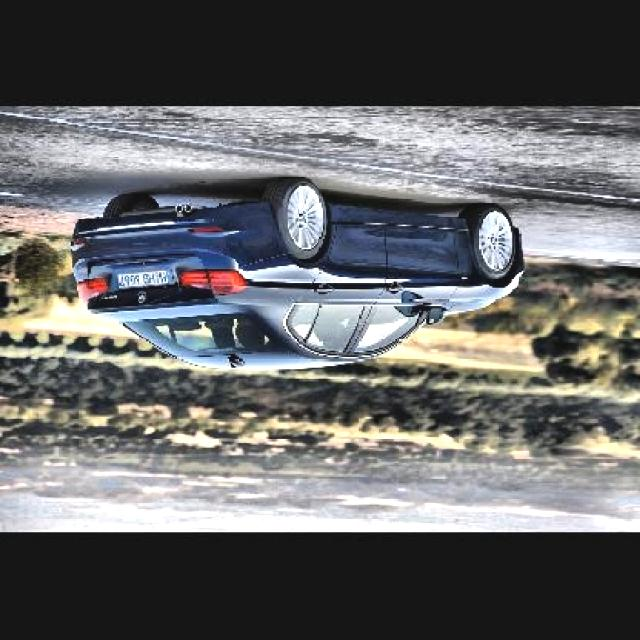blue: (67, 186, 521, 371)
